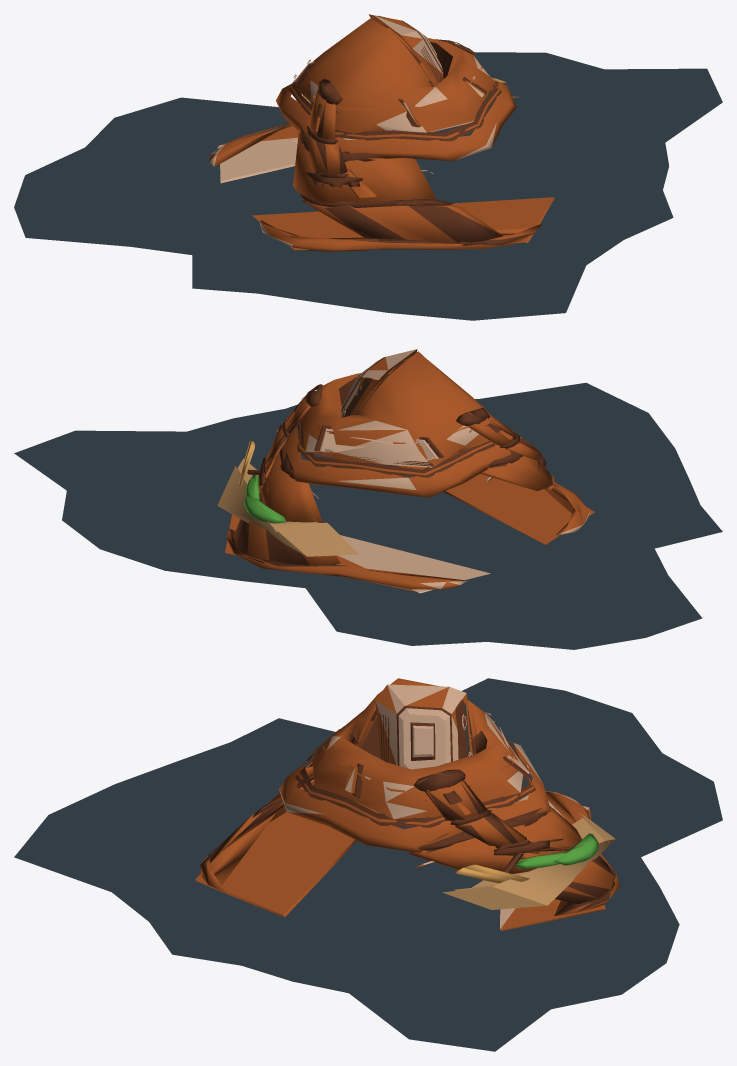
Rendered from heap-porter.glb.
3 views of the same model, one above another, from view 1: azimuth 30°, elevation 25°; view 2: azimuth 150°, elevation 25°; view 3: azimuth 270°, elevation 25° (orthographic). The views are drawn at different scales.
Visible parts, largest first — view 1: puddle, pile; view 2: puddle, pile; view 3: puddle, pile.
Part boxes in pixels (x1,y1,x2,y2): puddle: (14,52,722,320); pile: (209,14,554,251); puddle: (14,382,722,649); pile: (217,349,594,593); puddle: (14,678,722,1051); pile: (195,678,619,930).
Bounding box in the file's own units: 1.97 × 0.438 × 1.58.
